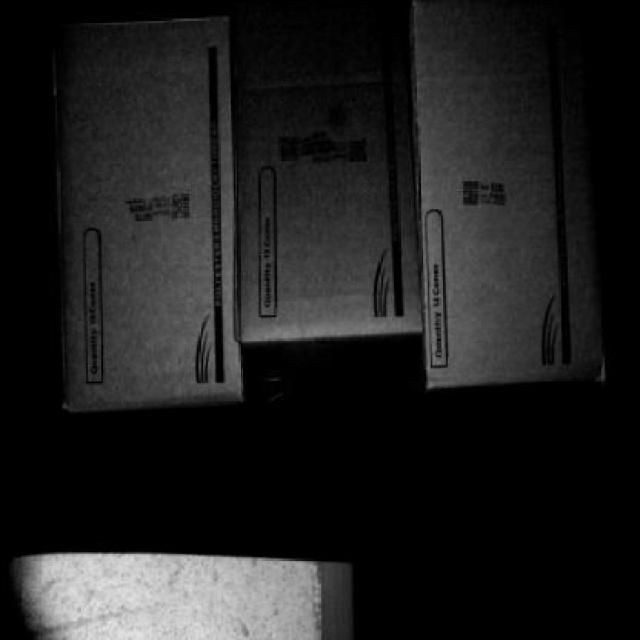cardboxes: (418, 2, 613, 390), (50, 17, 242, 400), (242, 17, 423, 343)
